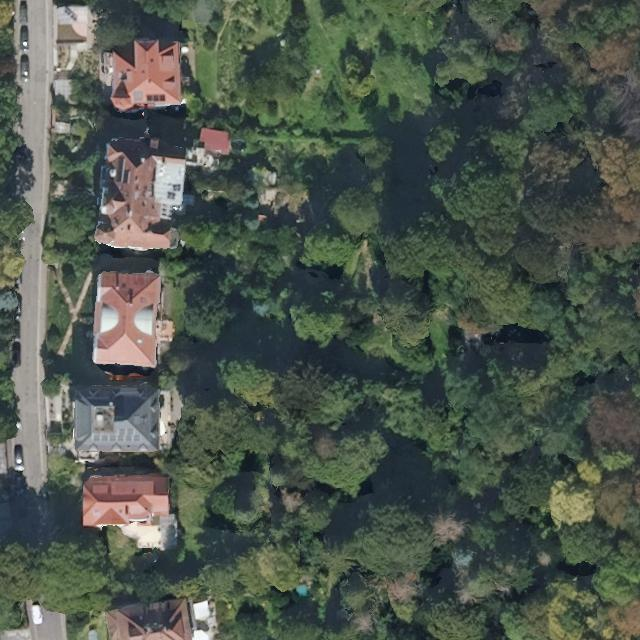PV: (89, 424, 143, 444)
